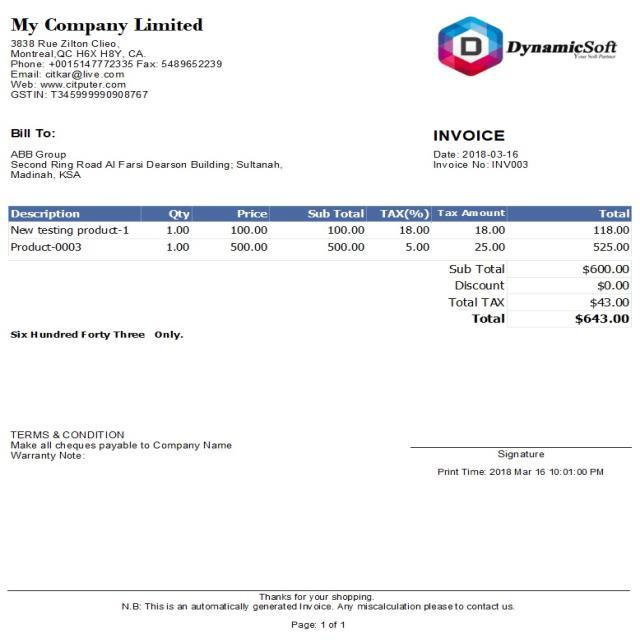ROI: (5, 201, 632, 255), (5, 9, 232, 101), (112, 586, 517, 634), (4, 123, 286, 181), (441, 259, 633, 331), (432, 10, 621, 75), (4, 425, 237, 467), (421, 445, 617, 480), (425, 126, 535, 178), (8, 324, 188, 342)
